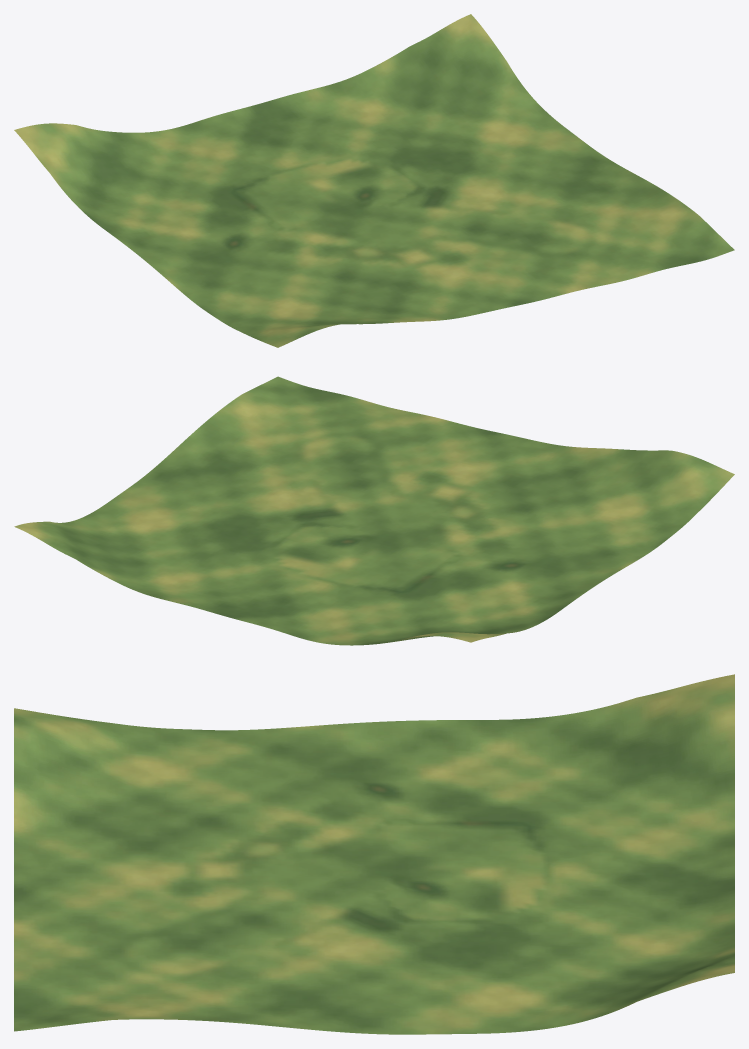
File: foundation_terrain.glb
3 renders of one model, top to bottom at view 1: azimuth 30°, elevation 25°; view 2: azimuth 150°, elevation 25°; view 3: azimuth 270°, elevation 25°, orthographic. The views are drawn at different scales.
Visible parts, largest first — view 1: Terrain; view 2: Terrain; view 3: Terrain.
Part boxes in pixels (left/top/right/bottom): Terrain: left=14, top=14, right=734, bottom=347; Terrain: left=14, top=376, right=734, bottom=645; Terrain: left=14, top=674, right=734, bottom=1034.
Bounding box in the file's own units: 25.92 × 2.53 × 25.92.
1 material, 1 textured.
